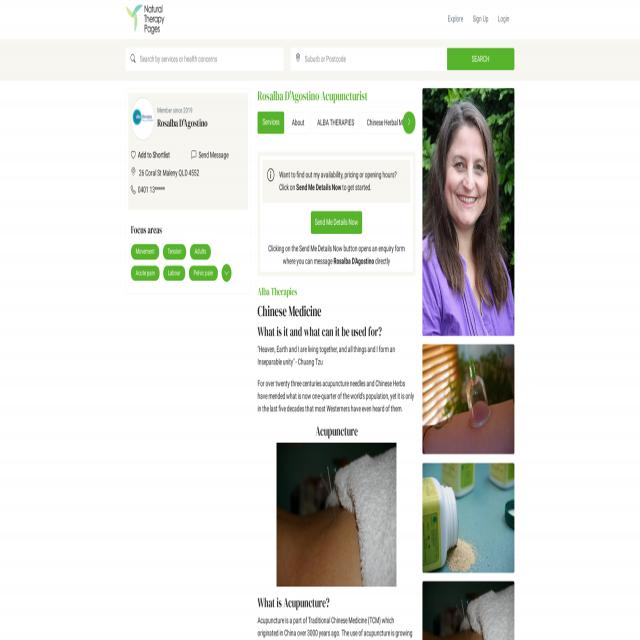button: (422, 88, 514, 336), (276, 443, 396, 588), (422, 344, 514, 454), (422, 462, 514, 572), (422, 581, 514, 640), (447, 48, 514, 70), (126, 5, 164, 35), (311, 212, 362, 234), (442, 0, 468, 39), (131, 98, 155, 140), (468, 0, 492, 39), (493, 0, 515, 39), (258, 110, 284, 134), (189, 266, 218, 282), (131, 244, 159, 260), (131, 265, 159, 281), (163, 244, 186, 260), (190, 243, 211, 260), (163, 266, 185, 281), (403, 111, 415, 134), (293, 49, 303, 68), (221, 264, 231, 282)
field: (125, 48, 284, 72), (290, 48, 447, 71)
